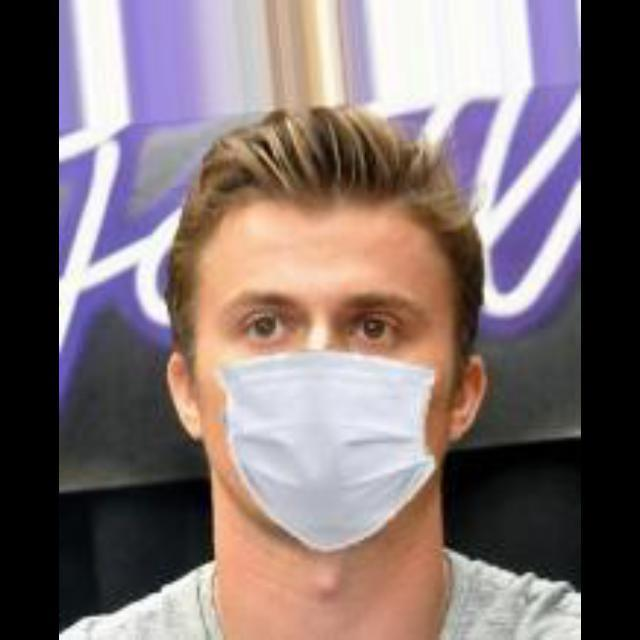suspicion: (142, 76, 503, 560)
